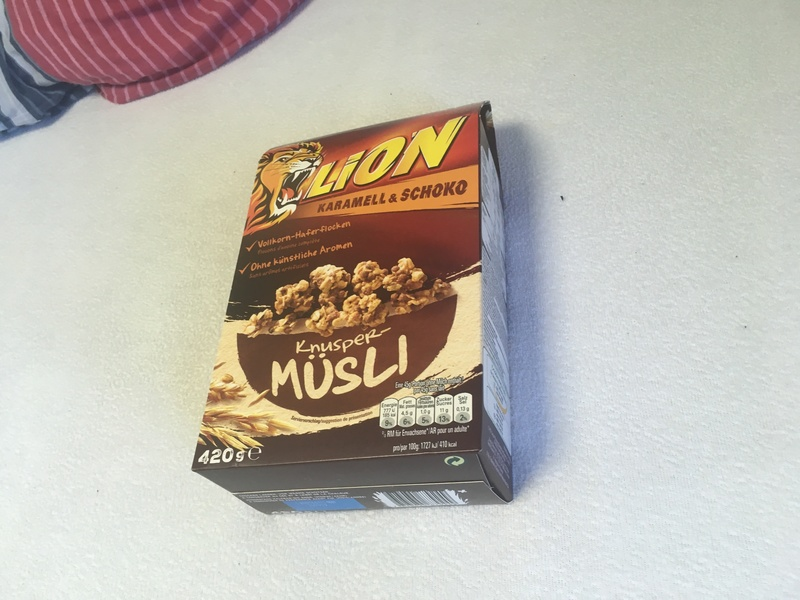cereals: (191, 102, 516, 516)
